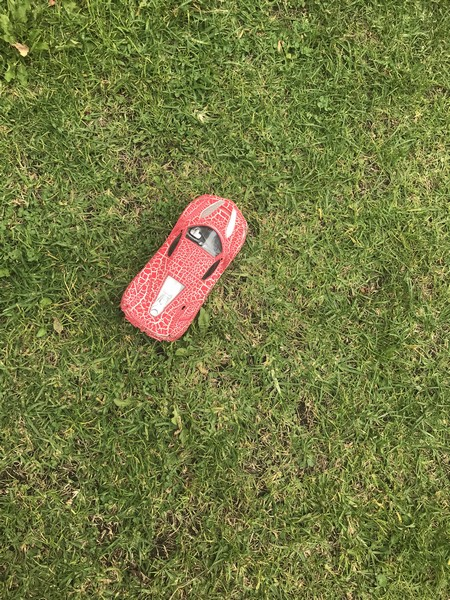RC: (116, 191, 248, 346)
